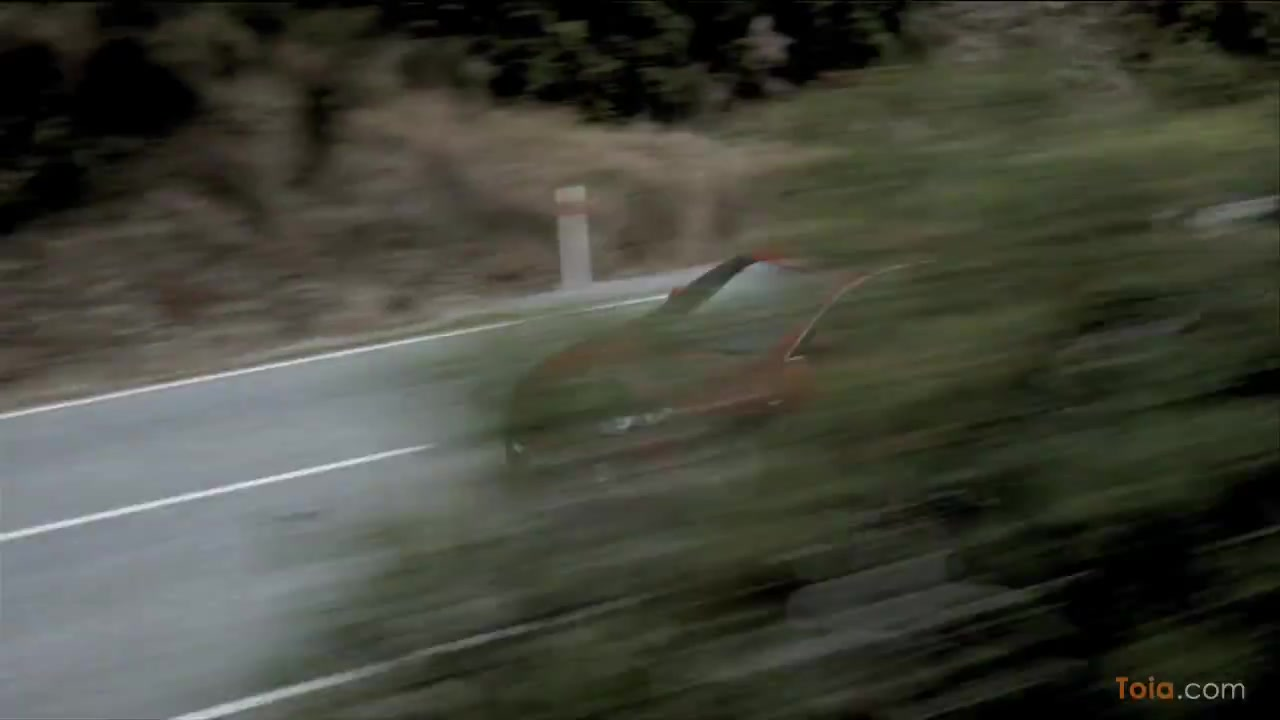car: (510, 250, 945, 480)
